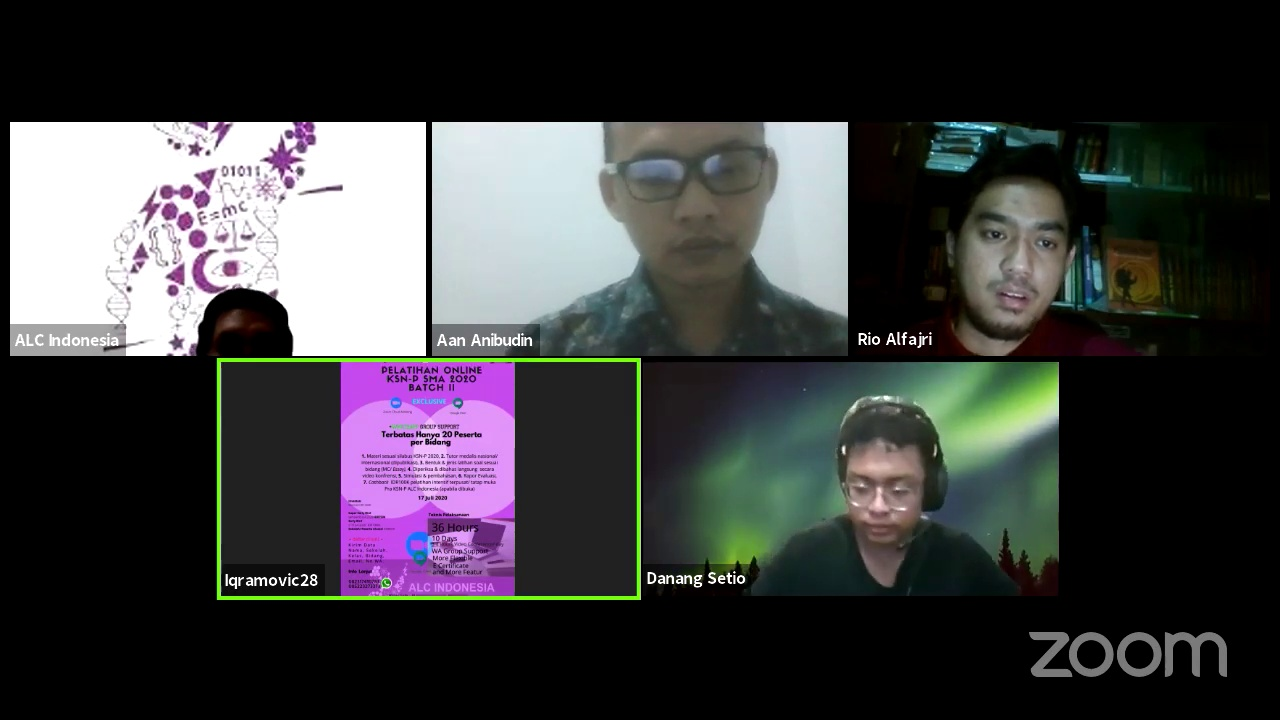Distracted: (594, 128, 786, 293), (824, 412, 944, 567)
Not Distracted: (940, 174, 1081, 337)
